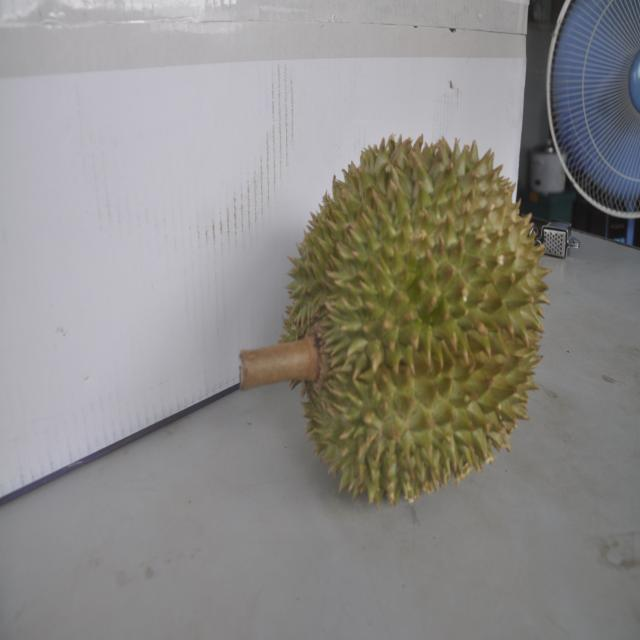mature: (268, 132, 543, 505)
